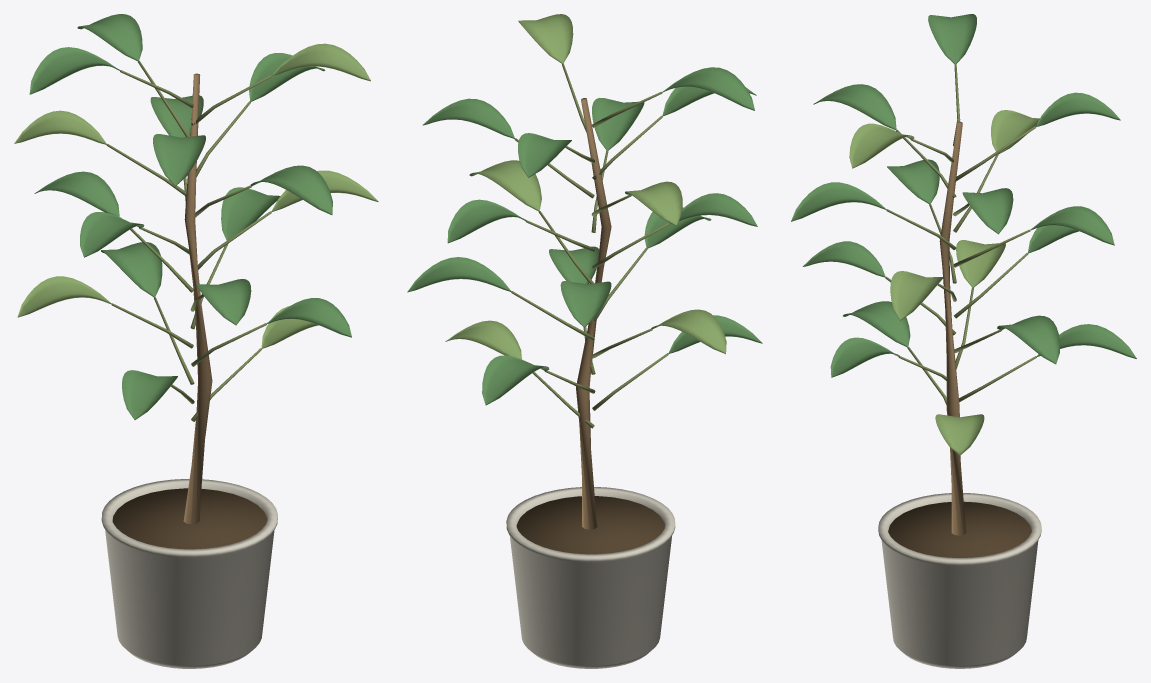
The model's file is ficus.glb.
3 renders of one model, left to right at view 1: azimuth 30°, elevation 25°; view 2: azimuth 150°, elevation 25°; view 3: azimuth 270°, elevation 25°, orthographic. The views are drawn at different scales.
Visible parts, largest first — view 1: ficus__leaves, ficus__body, ficus__young_leaves, ficus__soil, ficus__stems, ficus__bark; view 2: ficus__body, ficus__leaves, ficus__young_leaves, ficus__soil, ficus__stems, ficus__bark; view 3: ficus__leaves, ficus__body, ficus__young_leaves, ficus__soil, ficus__stems, ficus__bark.
Part boxes in pixels (x1=…): ficus__leaves: x1=29, y1=14, x2=351, y2=419; ficus__body: x1=101, y1=479, x2=277, y2=668; ficus__young_leaves: x1=14, y1=43, x2=378, y2=348; ficus__soil: x1=112, y1=488, x2=267, y2=549; ficus__stems: x1=106, y1=60, x2=271, y2=421; ficus__bark: x1=183, y1=73, x2=212, y2=524; ficus__body: x1=506, y1=487, x2=675, y2=668; ficus__leaves: x1=407, y1=67, x2=762, y2=405; ficus__young_leaves: x1=445, y1=14, x2=726, y2=359; ficus__soil: x1=516, y1=496, x2=664, y2=554; ficus__stems: x1=511, y1=63, x2=669, y2=428; ficus__bark: x1=576, y1=98, x2=611, y2=529; ficus__leaves: x1=791, y1=14, x2=1136, y2=377; ficus__body: x1=878, y1=493, x2=1041, y2=668; ficus__young_leaves: x1=849, y1=110, x2=1039, y2=455; ficus__soil: x1=888, y1=501, x2=1031, y2=557; ficus__stems: x1=885, y1=64, x2=1036, y2=404; ficus__bark: x1=939, y1=121, x2=966, y2=535.
Size of the model in its own units: 0.6748 by 1.23 by 0.6772.
